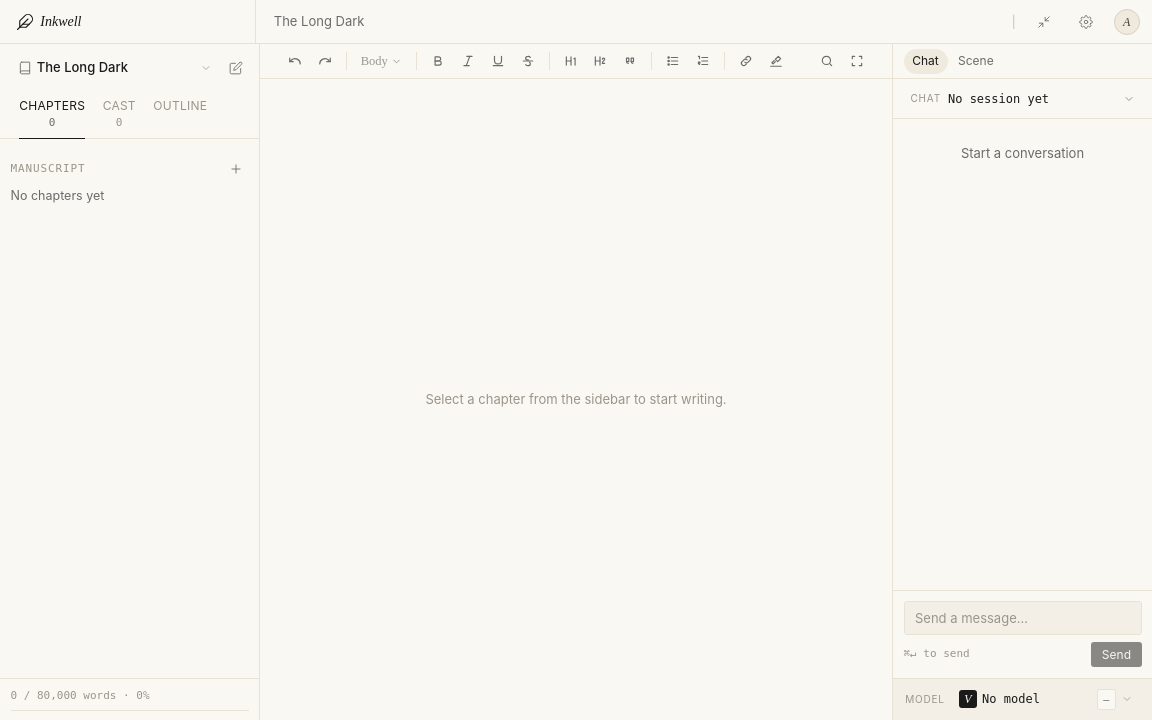
Test: EditorPage (F51 — AppShell shell) › edit-story button opens StoryModal seeded with the current story
Step 1. Click the button with test id "sidebar-story-settings" → (236, 68), box x1=224 y1=56 x2=248 y2=80
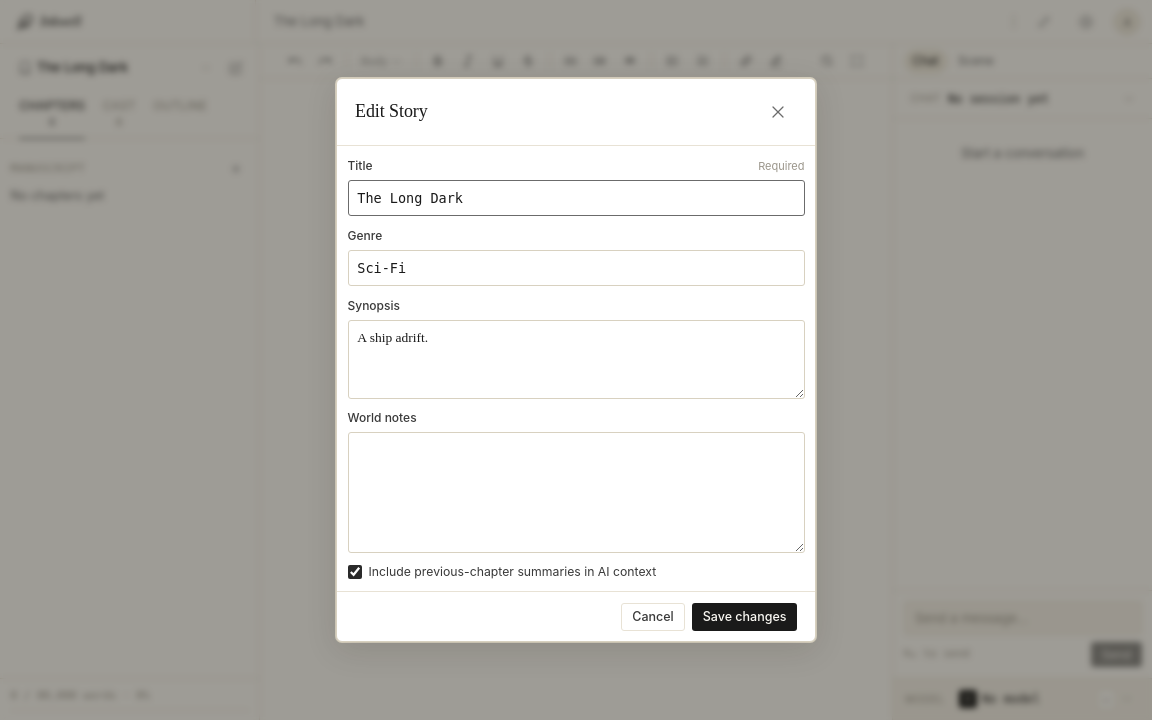
expect the heading "Edit Story" is shown: met, box x1=355 y1=98 x2=428 y2=125
expect the field labelled "Title Required" holds "The Long Dark": met, box x1=348 y1=180 x2=804 y2=216
